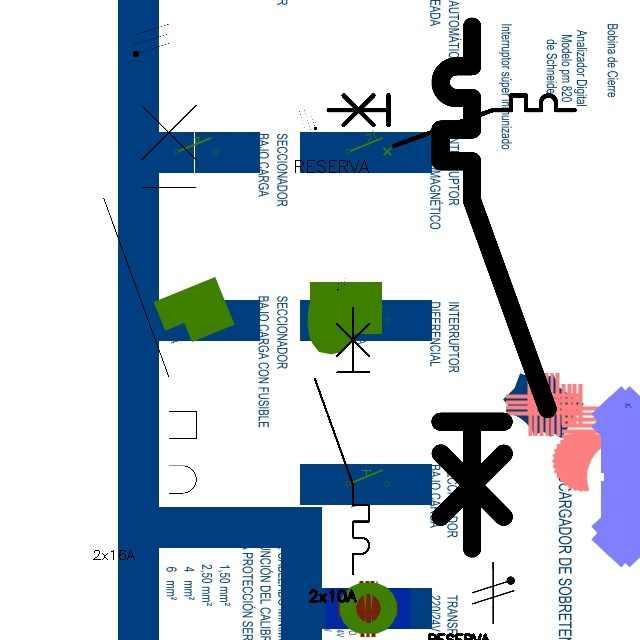interruptor_termomagnetico: (427, 13, 561, 562), (92, 66, 208, 539), (308, 300, 376, 580), (322, 89, 581, 152)
